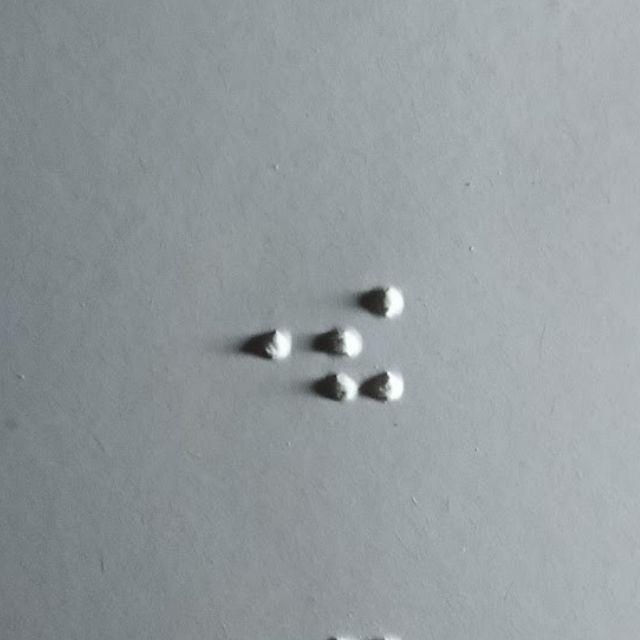anggi: (322, 285, 403, 402)
dot_5: (213, 285, 294, 402)
